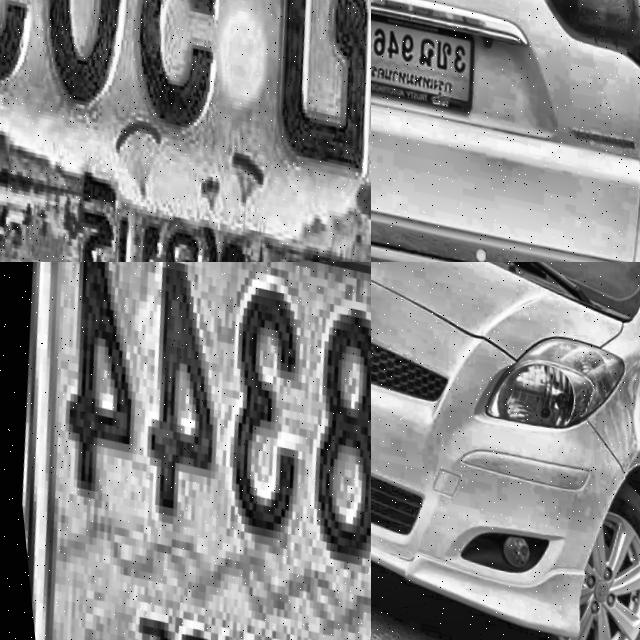license-plate: (0, 262, 371, 640), (0, 0, 371, 262), (371, 0, 475, 110)
